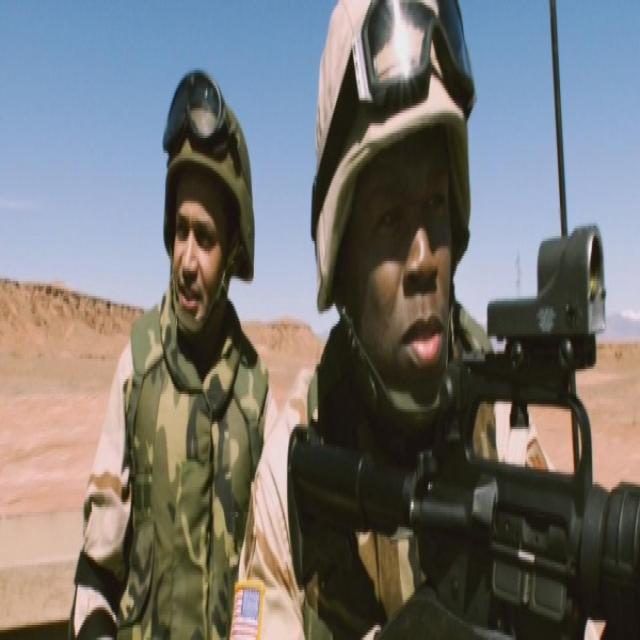rifle: (287, 223, 640, 640)
